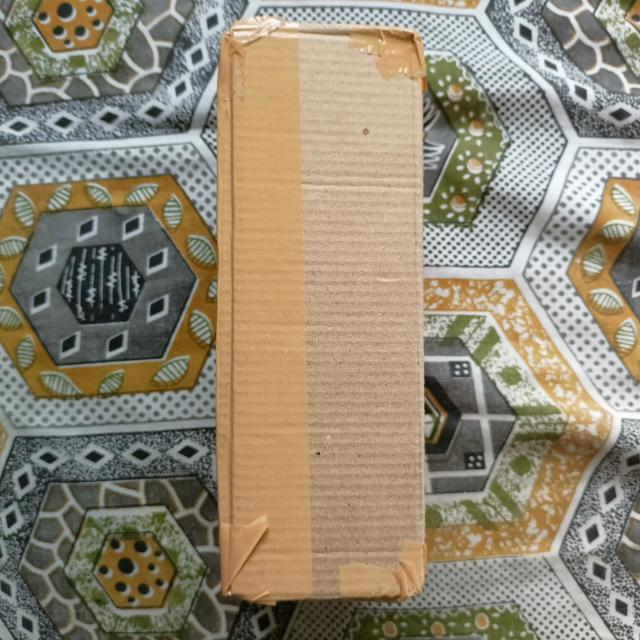box: (225, 34, 429, 593)
